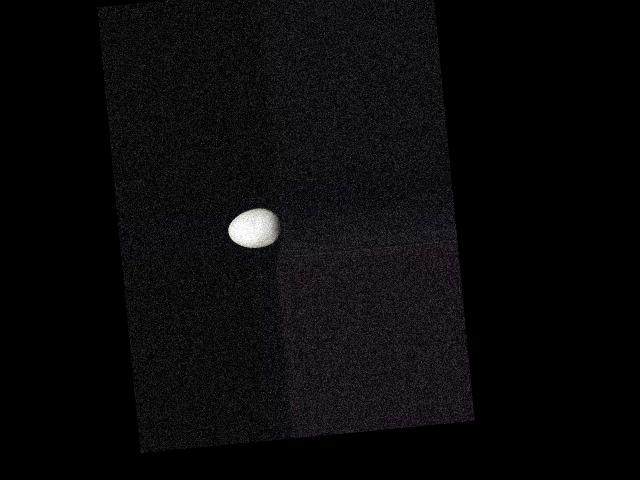egg: (226, 207, 283, 250)
